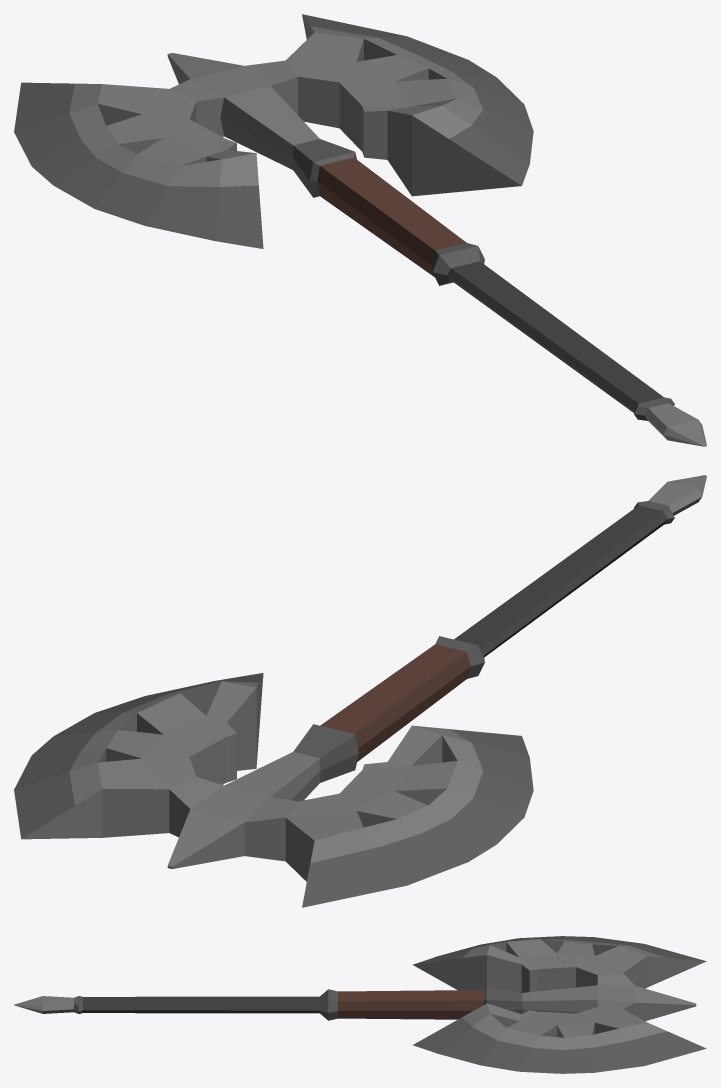
File: 20-Axe.fbx
3 views of the same model, one above another, from view 1: azimuth 30°, elevation 25°; view 2: azimuth 150°, elevation 25°; view 3: azimuth 270°, elevation 25° (orthographic). The views are drawn at different scales.
Parts seen in each view (by area): view 1: Weapon20; view 2: Weapon20; view 3: Weapon20.
Boxes of the visible parts, left/top/right/bottom form: Weapon20: left=14, top=14, right=706, bottom=446; Weapon20: left=14, top=475, right=706, bottom=907; Weapon20: left=14, top=936, right=706, bottom=1073.
Size of the model in its own units: 237 by 41.4 by 503.
